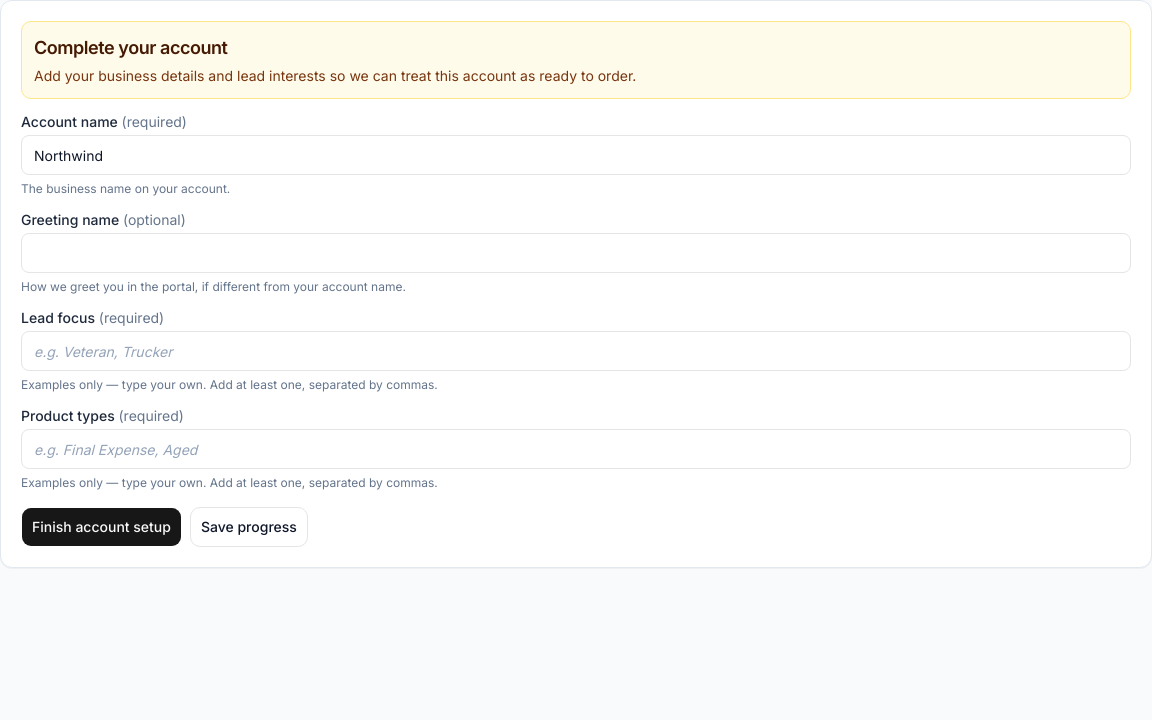
Test: failed completion keeps the form and shows a safe error
Type "Veteran" into the field labelled "Lead focus (required)" at (576, 351), box [21, 331, 1131, 371]
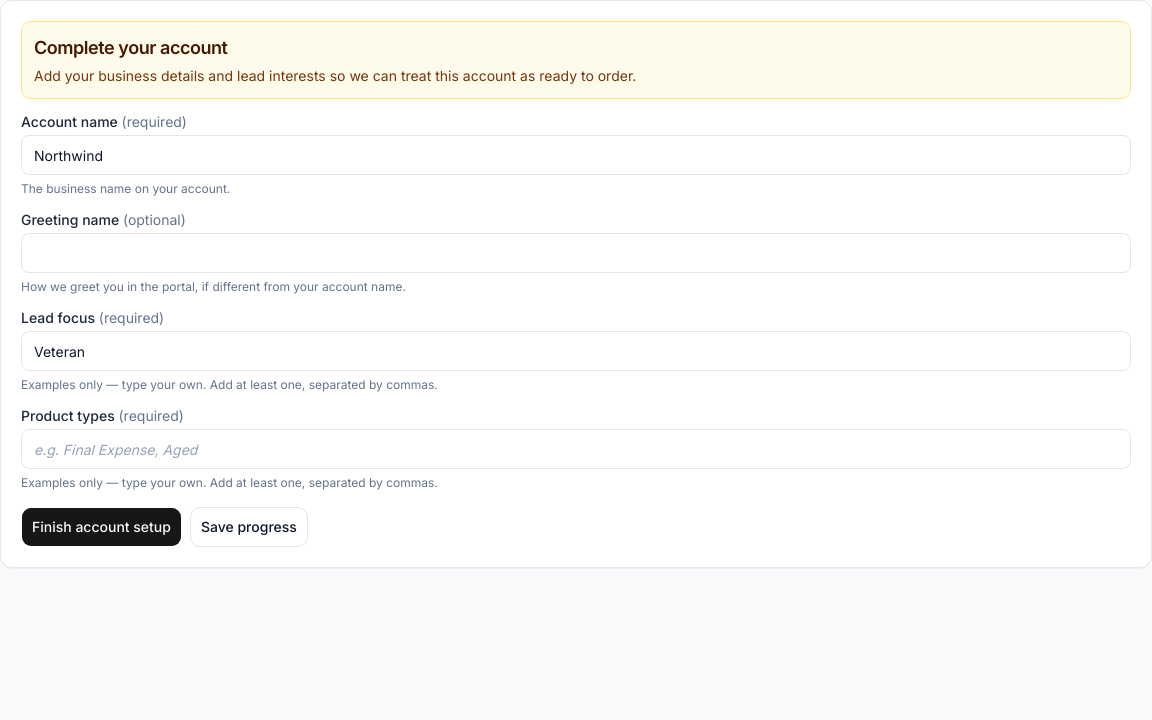
Type "Aged" into the field labelled "Product types (required)" at (576, 449), box [21, 429, 1131, 469]
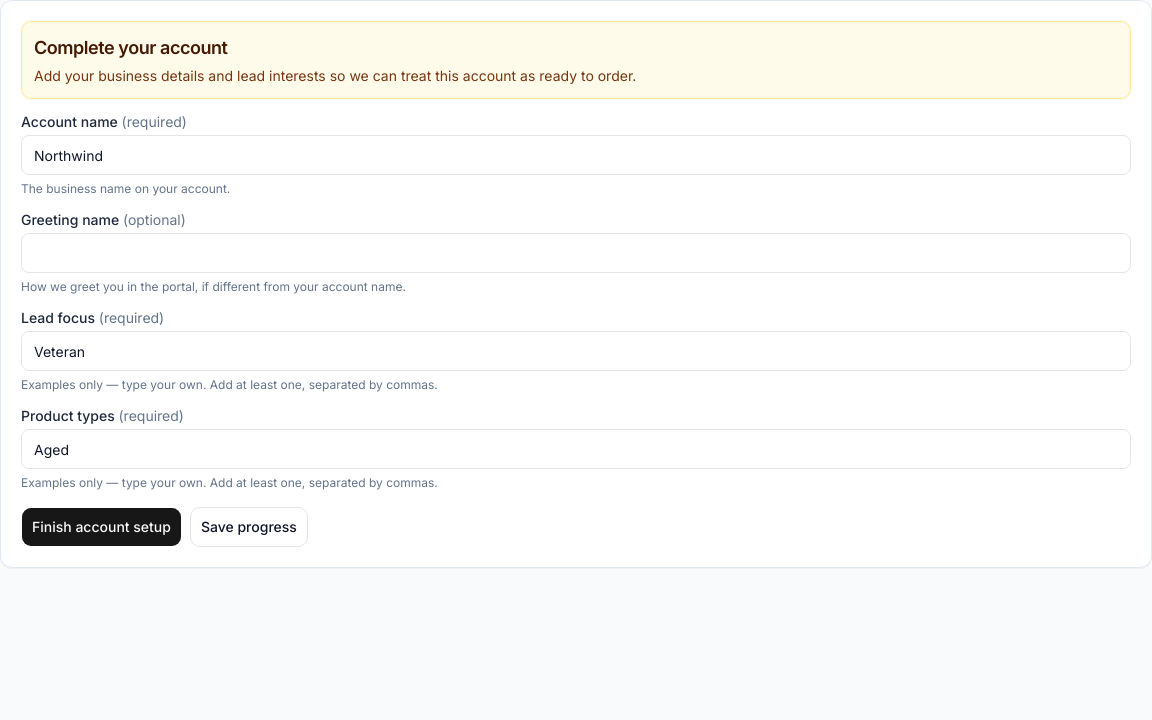
Click the button "Finish account setup" at (101, 527), box [21, 507, 182, 547]
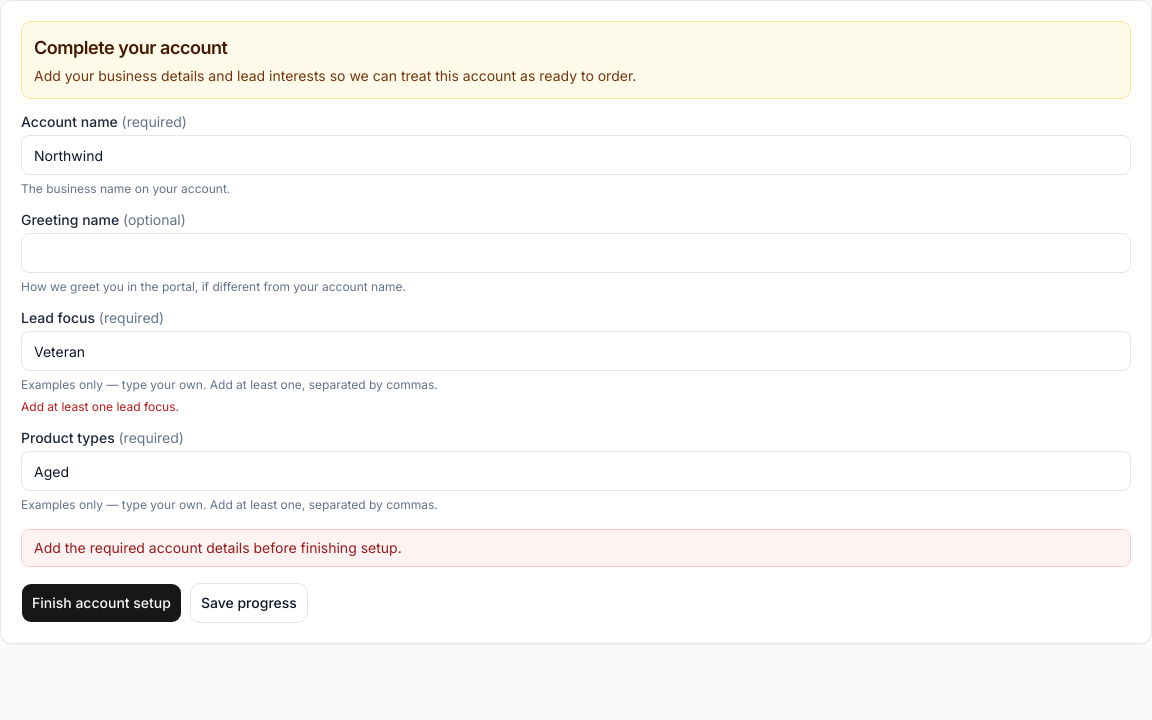
Expected: the heading "Complete your account" is shown, [34, 37, 228, 58]
Now the text "Add the required account details before finishing setup." is shown, box [21, 529, 1131, 567]
